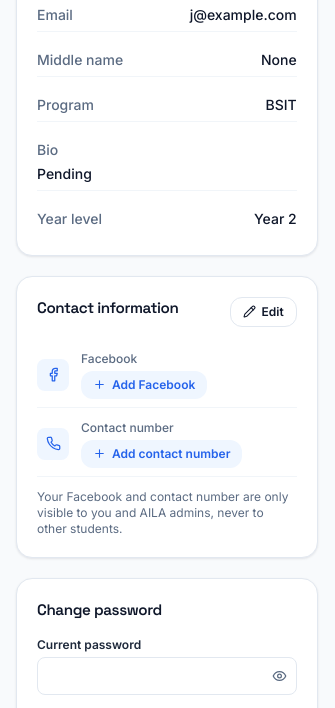
Test case: Profile contact information card › when empty, shows "Add Facebook" / "Add contact number" buttons that open the form at that field
The image size is (335, 708).
(page scrolled)
Expected: the button "Add contact number" is shown, [81,440,242,468]
Step 1. Click the button "Add Facebook" → (144, 385), box [81,371,207,399]
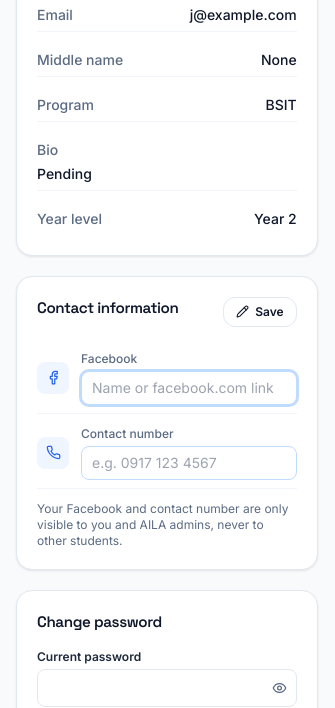
Result: the button with aria-label "Save contact information" is shown at [223,297,297,327]
Result: the button "Add Facebook" is gone
